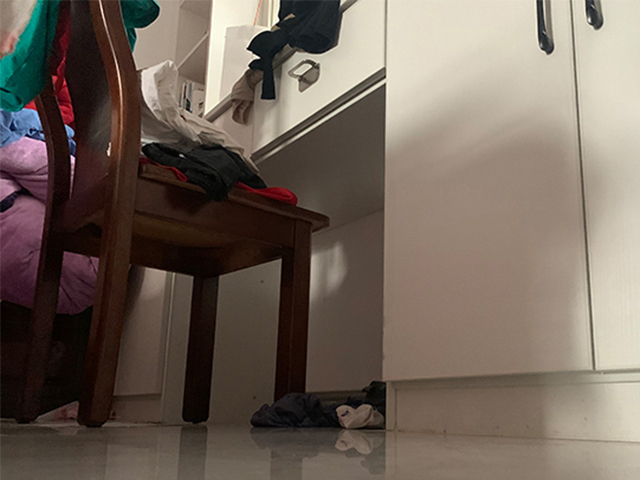cabinet: (383, 1, 640, 444)
socks: (254, 393, 319, 429), (334, 404, 384, 427)
stool: (14, 1, 331, 429)
